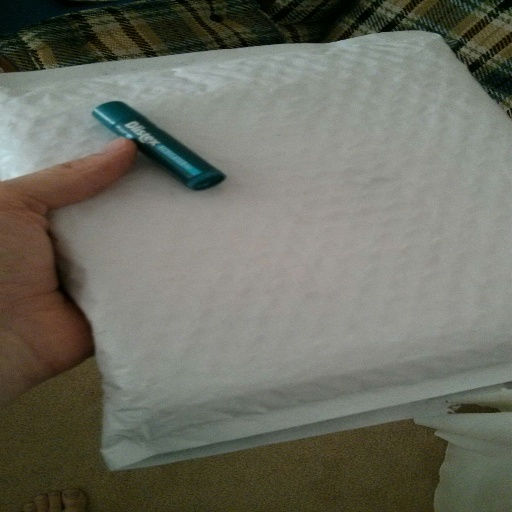hand: (0, 136, 135, 374)
